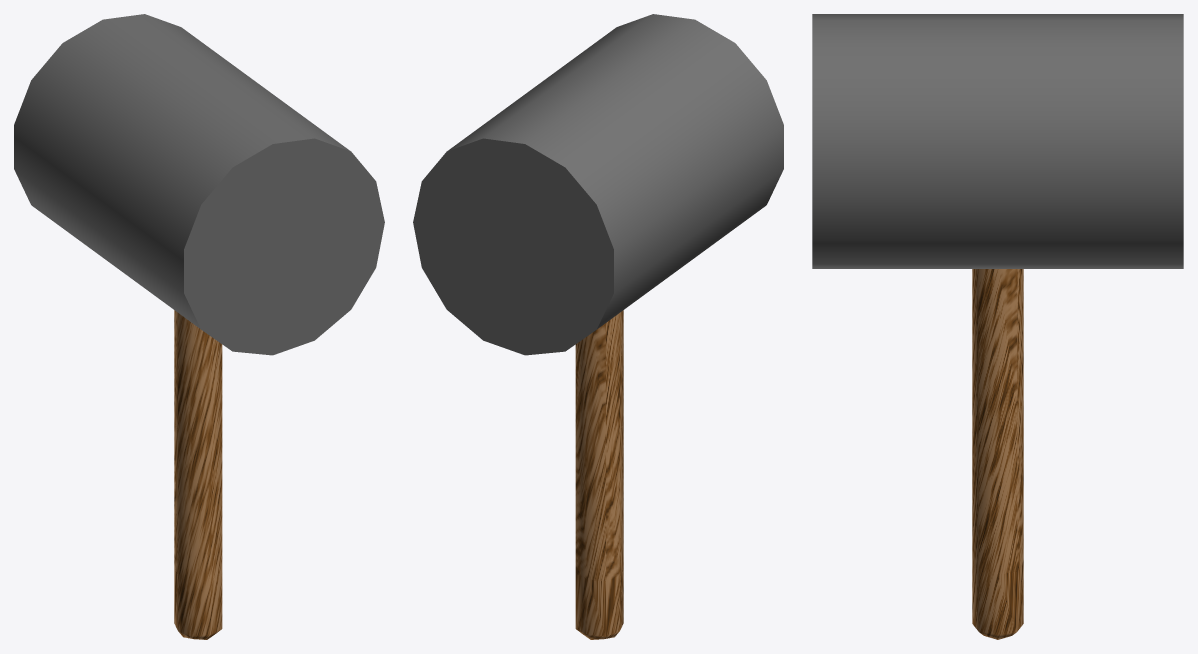
Rendered from hammer.fbx.
3 renders of one model, left to right at view 1: azimuth 30°, elevation 25°; view 2: azimuth 150°, elevation 25°; view 3: azimuth 270°, elevation 25°, orthographic. The views are drawn at different scales.
Parts seen in each view (by area): view 1: pCylinder1, pCube1; view 2: pCylinder1, pCube1; view 3: pCylinder1, pCube1.
Part boxes in pixels (<box>): pCylinder1: <box>14,14,384,355</box>; pCube1: <box>174,310,222,639</box>; pCylinder1: <box>413,14,783,355</box>; pCube1: <box>575,310,623,639</box>; pCylinder1: <box>812,14,1183,268</box>; pCube1: <box>972,269,1023,639</box>.
Bounding box in the file's own units: 1.98 × 5.24 × 2.9.
2 materials, 1 textured.
